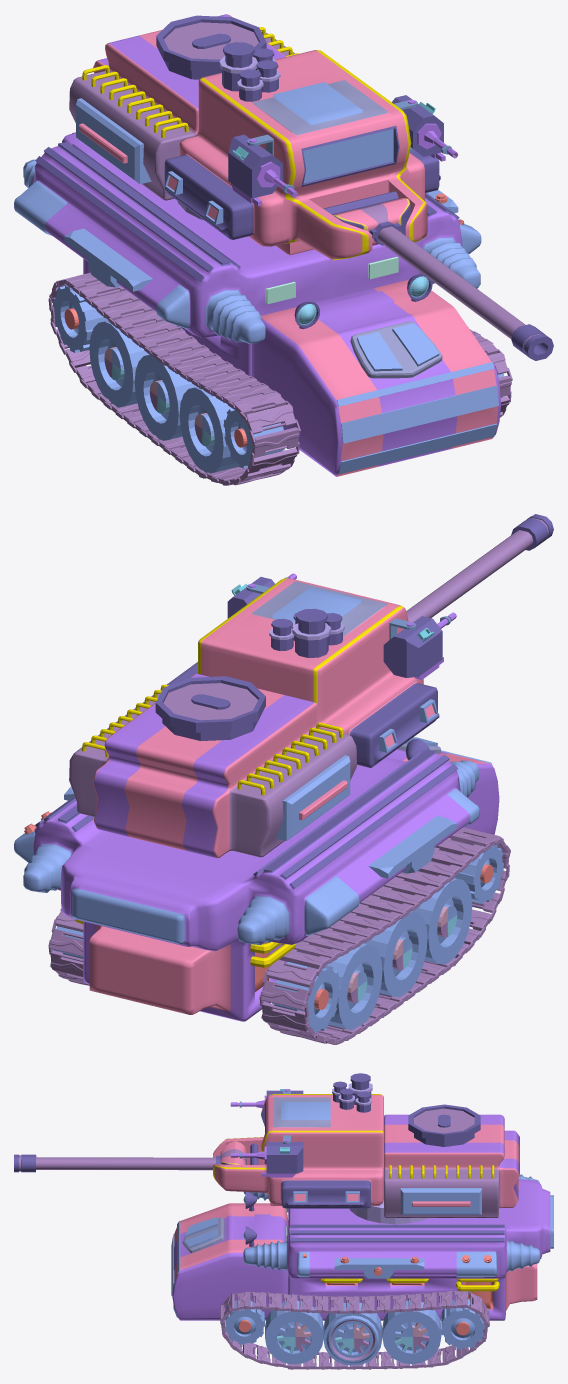
The model's file is Tank_01.fbx.
The picture shows the model from 3 angles, top to bottom: view 1: azimuth 30°, elevation 25°; view 2: azimuth 150°, elevation 25°; view 3: azimuth 270°, elevation 25°; orthographic projection. The views are drawn at different scales.
Parts seen in each view (by area): view 1: Hull, Turret, Track, Roadwheel, Gun, Maingun, Hatch, Hinge; view 2: Hull, Turret, Track, Roadwheel, Hatch, Gun, Maingun; view 3: Hull, Turret, Roadwheel, Track, Maingun, Hatch, Gun, Hinge.
Part boxes in pixels (box(x1,y1,x2,y2)): Hull: box(14, 132, 500, 476); Turret: box(69, 14, 440, 260); Track: box(48, 273, 512, 485); Roadwheel: box(52, 285, 504, 473); Gun: box(228, 95, 458, 206); Maingun: box(369, 221, 553, 360); Hatch: box(156, 15, 266, 79); Hinge: box(333, 198, 410, 245); Hull: box(14, 737, 499, 1021); Turret: box(69, 578, 439, 858); Track: box(48, 827, 510, 1044); Roadwheel: box(52, 844, 503, 1033); Hatch: box(155, 676, 265, 740); Gun: box(227, 573, 456, 679); Maingun: box(406, 514, 553, 622); Hull: box(171, 1174, 553, 1320); Turret: box(213, 1073, 519, 1217); Roadwheel: box(225, 1299, 485, 1365); Track: box(220, 1291, 489, 1369); Maingun: box(14, 1154, 220, 1172); Hatch: box(408, 1104, 480, 1146); Gun: box(230, 1089, 303, 1177); Hinge: box(220, 1141, 246, 1164).
Size of the model in its own units: 698 by 738 by 1507.
Materials: 2 (2 with a texture image).
